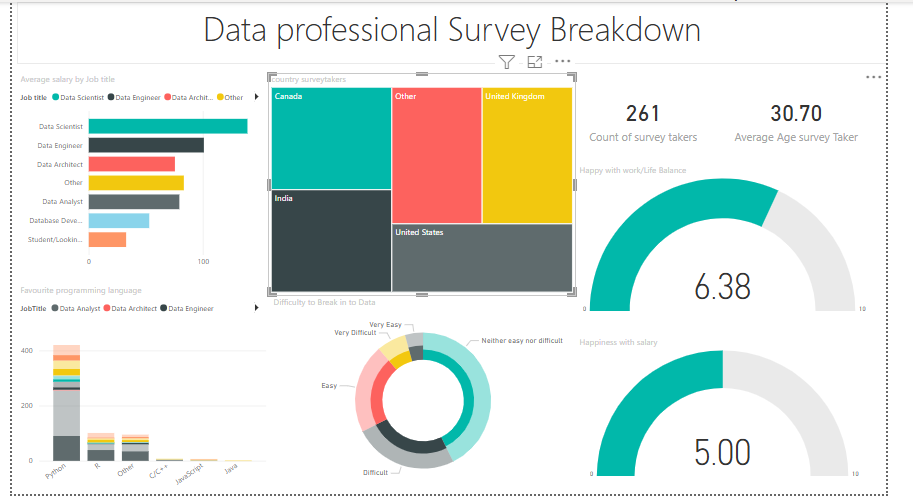

Layout of this report page (visuals, bound fields, positions):
{"tool":"powerbi","page":{"name":"Page 1","canvas":[1280,720],"ordinal":0},"visuals":[{"type":"textbox","box":[6.7,0,1273.3,90.7],"z":0},{"type":"card","fields":{"Values":["CountNonNull(Data Professional Survey.Unique ID)"]},"box":[813,104.1,220.1,134.4],"z":1000},{"type":"card","fields":{"Values":["Avg(Data Professional Survey.Q10 - Current Age)"]},"box":[1033.1,104.1,228.5,134.4],"z":2000},{"type":"barChart","title":"Average salary by Job title","fields":{"Category":["Data Professional Survey.Q1 - Which Title Best Fits your Current Role?.1"],"Y":["Avg(Data Professional Survey.Average )"],"Series":["Data Professional Survey.Q1 - Which Title Best Fits your Current Role?.1"]},"box":[6.7,104.1,369.6,294],"z":3000},{"type":"columnChart","title":"Favourite programming language","fields":{"Category":["Data Professional Survey.Q5 - Favorite Programming Language.1"],"Y":["CountNonNull(Data Professional Survey.Unique ID)"],"Series":["Data Professional Survey.Q1 - Which Title Best Fits your Current Role?.1"]},"box":[6.7,413.2,369.6,307.4],"z":4000},{"type":"treemap","title":"country surveytakers","fields":{"Group":["Data Professional Survey.Q11 - Which Country do you live in?.1"],"Values":["Count(Data Professional Survey.Q11 - Which Country do you live in?.1)"]},"box":[374.8,104.4,450.6,325.6],"z":5000},{"type":"gauge","title":"Happy with work/Life Balance ","fields":{"Y":["Avg(Data Professional Survey.Q6 - How Happy are you in your Current Position with the following? (Work/Life Balance))"],"MinValue":["Min(Data Professional Survey.Q6 - How Happy are you in your Current Position with the following? (Work/Life Balance))"],"MaxValue":["Max(Data Professional Survey.Q6 - How Happy are you in your Current Position with the following? (Work/Life Balance))1"]},"box":[825.3,237.6,434.2,225.3],"z":6000},{"type":"gauge","title":"Happiness with salary","fields":{"Y":["Avg(Data Professional Survey.Q6 - How Happy are you in your Current Position with the following? (Salary))"],"MinValue":["Min(Data Professional Survey.Q6 - How Happy are you in your Current Position with the following? (Salary))"],"MaxValue":["Max(Data Professional Survey.Q6 - How Happy are you in your Current Position with the following? (Salary))"]},"box":[825.3,489.5,434.2,215],"z":7000},{"type":"donutChart","title":"Difficulty to Break in to Data","fields":{"Category":["Data Professional Survey.Q7 - How difficult was it for you to break into Data?"],"Y":["CountNonNull(Data Professional Survey.Q7 - How difficult was it for you to break into Data?)"]},"box":[377,430,448,290],"z":8000}]}

Visuals, with their boxes on the page's 1280x720 design canvas (x1, y1, x2, y2). These are canvas units, not pixel positions in the 913x496 screenshot, which may show the page scaled, cropped or inside an application window:
textbox: (x1=7, y1=0, x2=1280, y2=91)
card - CountNonNull(Data Professional Survey.Unique ID): (x1=813, y1=104, x2=1033, y2=238)
card - Avg(Data Professional Survey.Q10 - Current Age): (x1=1033, y1=104, x2=1262, y2=238)
"Average salary by Job title" barChart: (x1=7, y1=104, x2=376, y2=398)
"Favourite programming language" columnChart: (x1=7, y1=413, x2=376, y2=721)
"country surveytakers" treemap: (x1=375, y1=104, x2=825, y2=430)
"Happy with work/Life Balance " gauge: (x1=825, y1=238, x2=1260, y2=463)
"Happiness with salary" gauge: (x1=825, y1=490, x2=1260, y2=704)
"Difficulty to Break in to Data" donutChart: (x1=377, y1=430, x2=825, y2=720)
